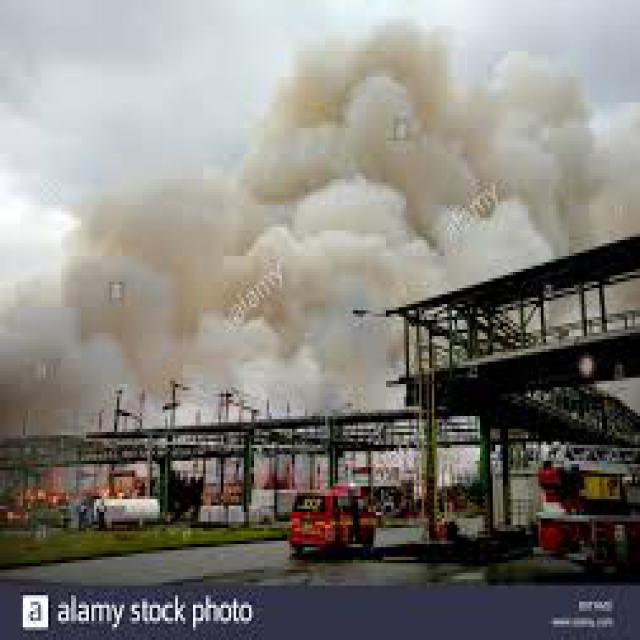smoke: (104, 22, 594, 388)
